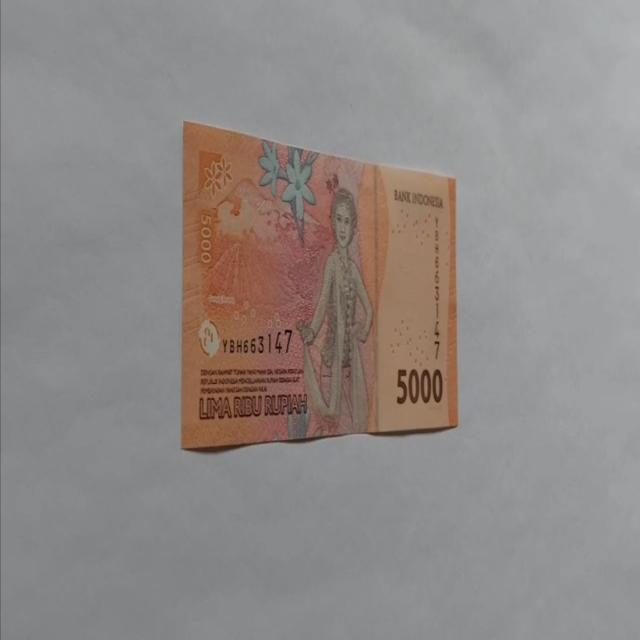lima ribu rupiah: (180, 118, 459, 451), (295, 185, 374, 438)
